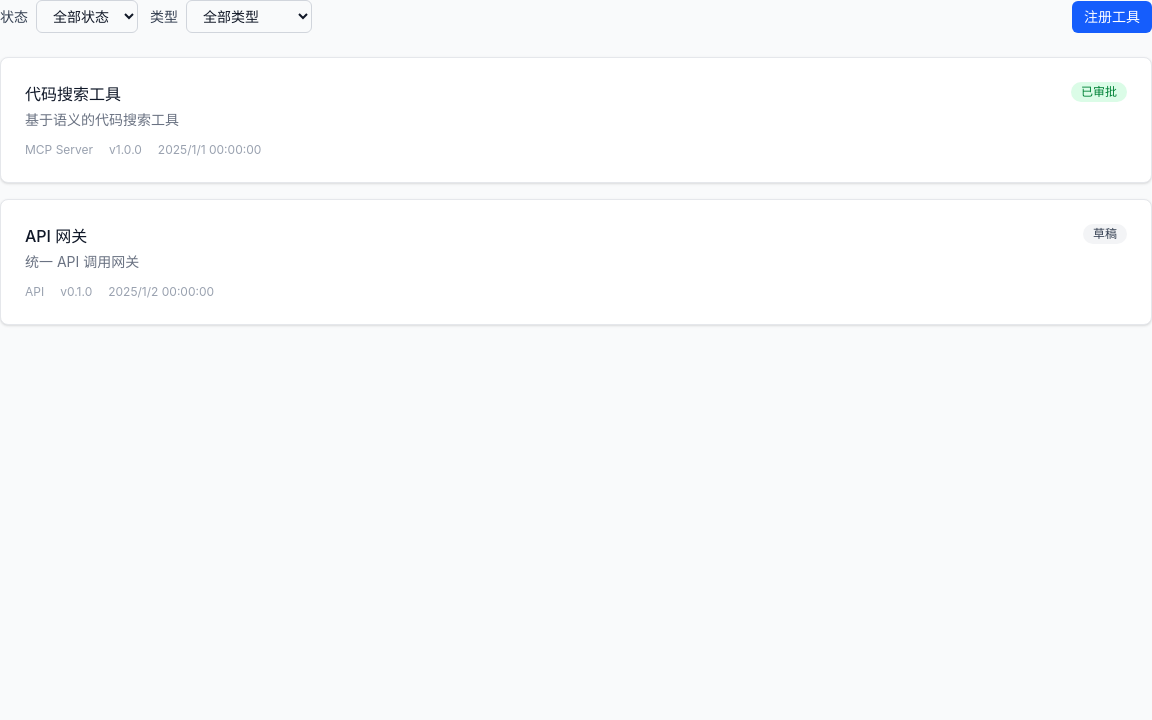
ToolList › 点击注册工具应打开对话框
Expected: the heading "代码搜索工具" is shown, [25,84,121,104]
Click the button "注册工具" at [1112, 16], box [1072,0,1151,32]
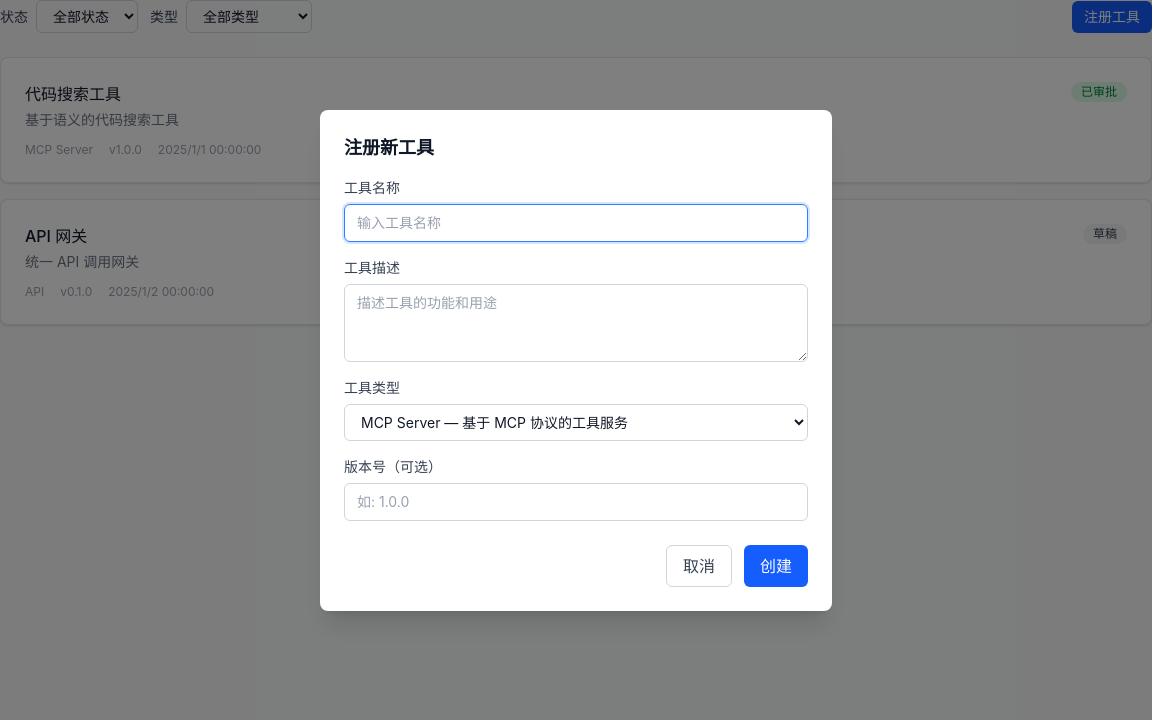
Expected: the dialog is shown, [320,110,832,610]
Expected: the heading "注册新工具" is shown, [344,136,434,158]
